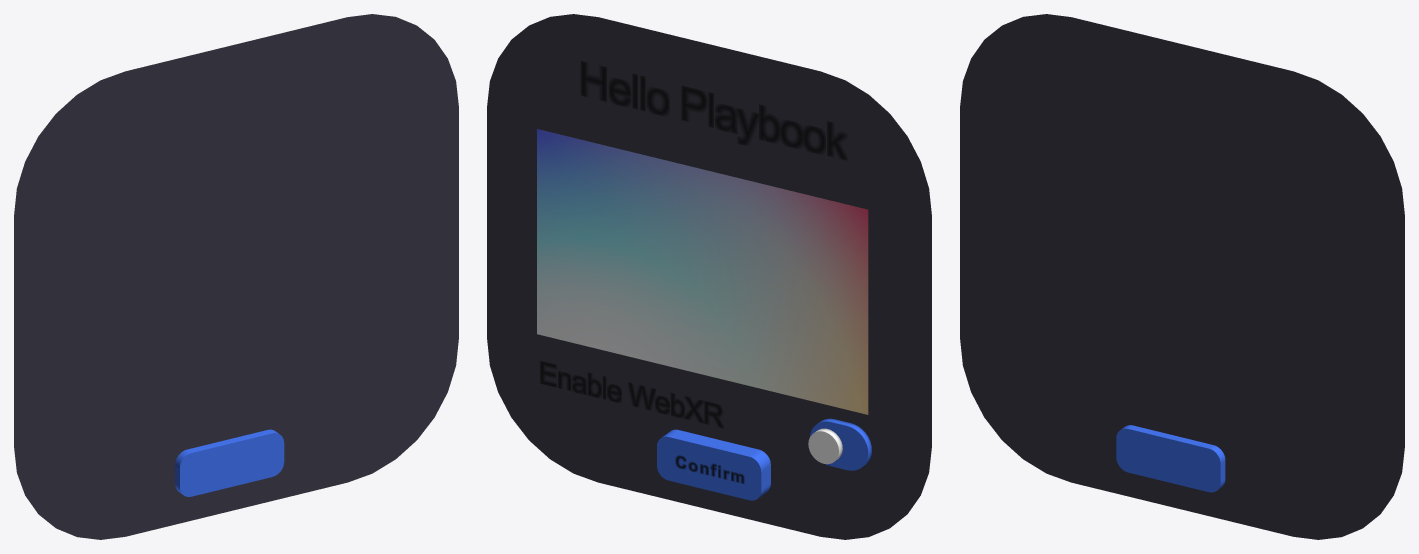
File: Project Name_0.gltf
3 views of the same model, side by side, from view 1: azimuth 30°, elevation 25°; view 2: azimuth 150°, elevation 25°; view 3: azimuth 330°, elevation 25° (orthographic).
Visible parts, largest first — view 1: PanelObject, Cube; view 2: PanelObject, PlaybookImage, TextMesh (×2), Cube, bg, knob, Title (1); view 3: PanelObject, Cube.
Boxes of the visible parts, bbox=[...] form: PanelObject: bbox=[14, 14, 458, 539]; Cube: bbox=[175, 429, 284, 496]; PanelObject: bbox=[487, 14, 931, 539]; PlaybookImage: bbox=[537, 129, 868, 414]; TextMesh (×2): bbox=[540, 61, 847, 427]; Cube: bbox=[657, 429, 770, 500]; bg: bbox=[810, 418, 871, 470]; knob: bbox=[808, 428, 842, 464]; Title (1): bbox=[675, 455, 744, 483]; PanelObject: bbox=[960, 14, 1404, 539]; Cube: bbox=[1116, 425, 1225, 492].
Size of the model in its own units: 1 by 1 by 0.061.
8 materials, 4 textured.
